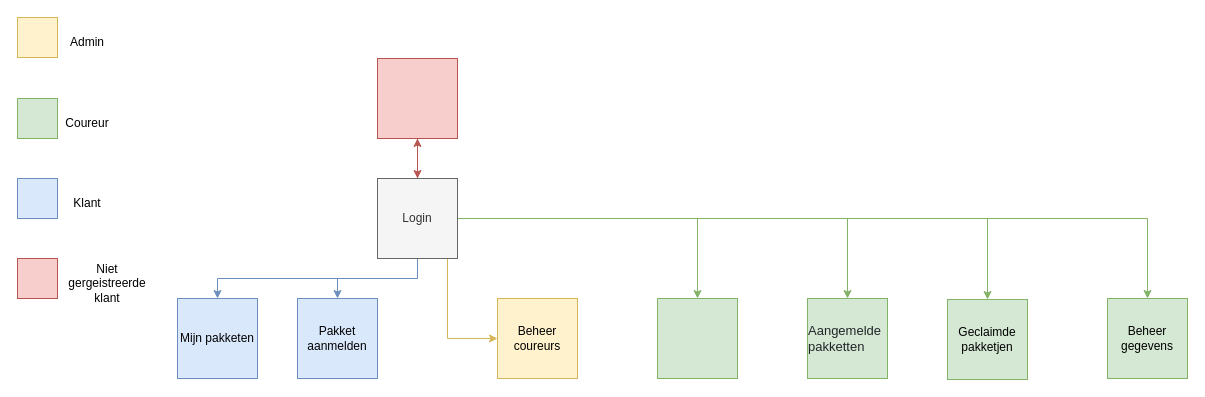
Some shapes in this 1205 by 397 pixel diagram are drawn without their labels. Each missing label, with the box of its shape:
Afgeleverde Pakketten: (656, 298, 738, 378)
Registratie: (376, 58, 458, 138)
